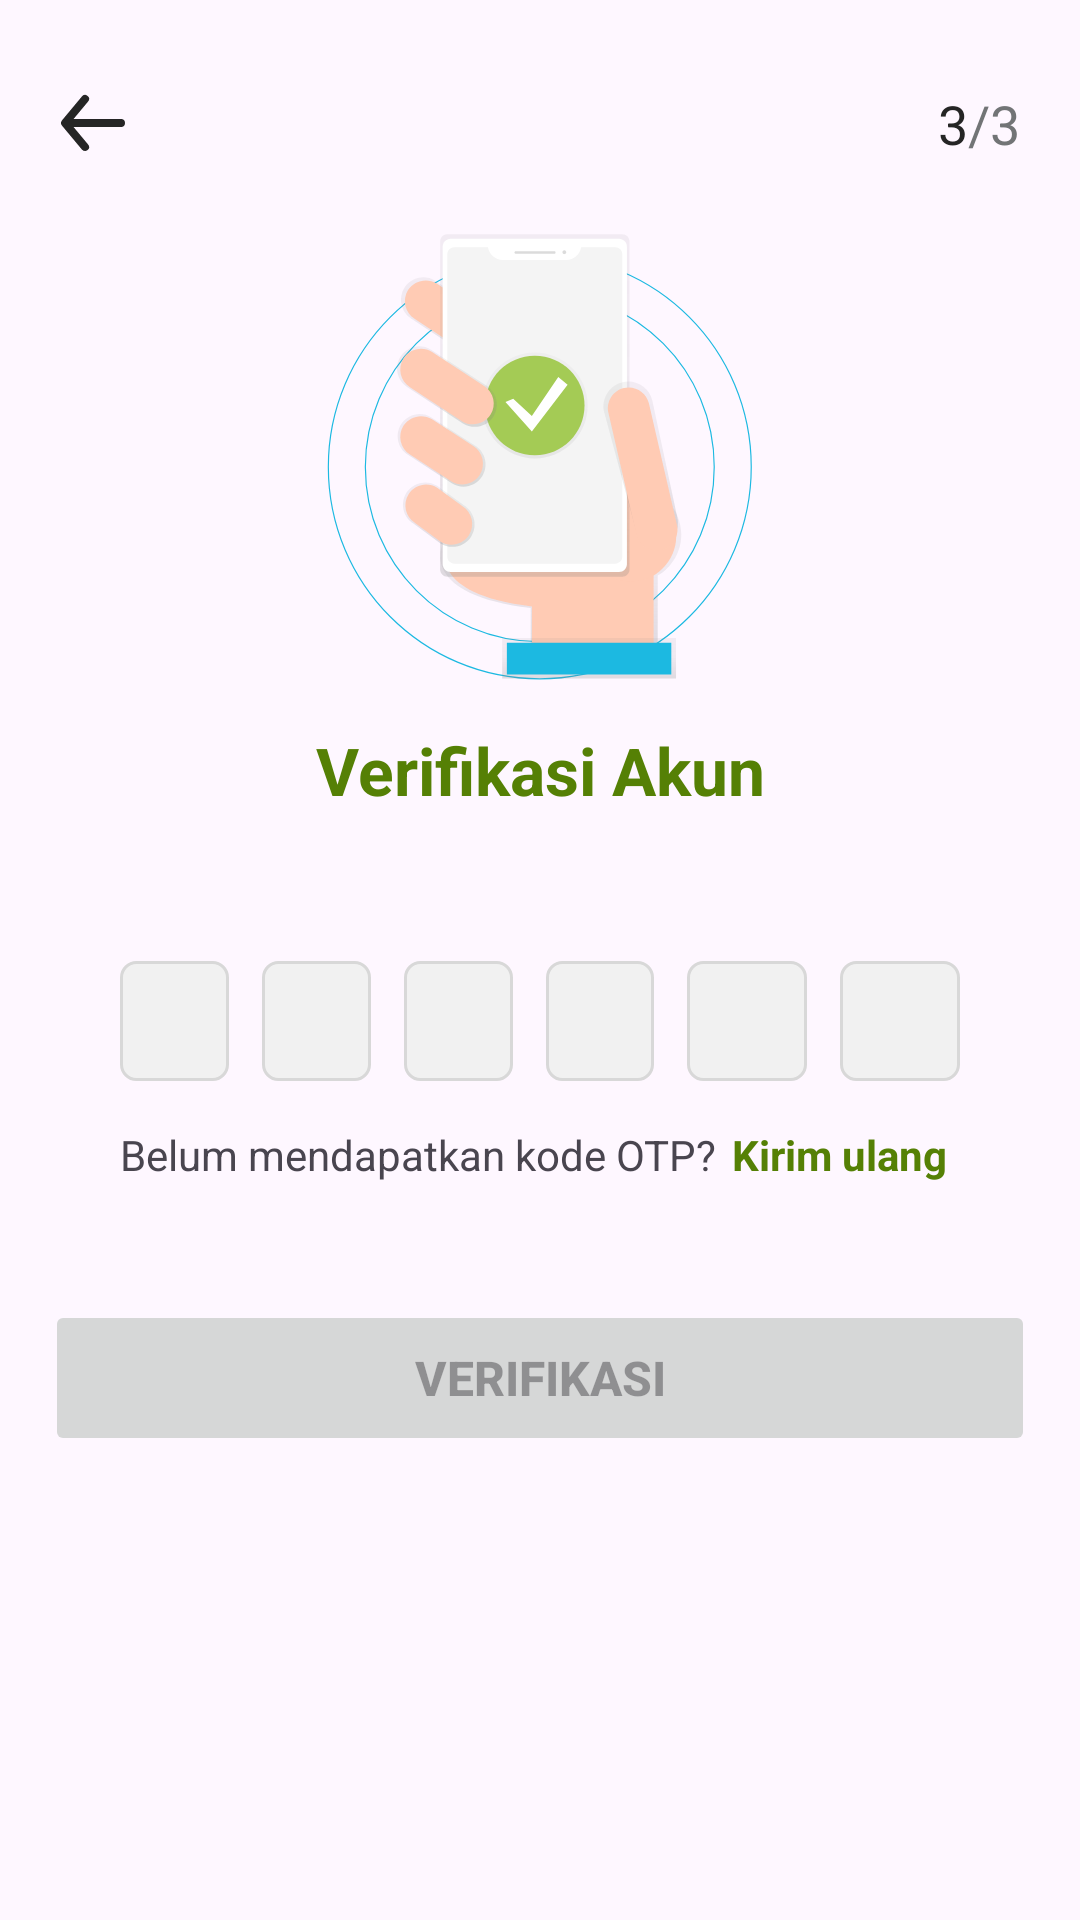

Icon bounding boxes for this 1080 x 1920 phone screenshot, format (left=x1, top=y1, right=x2, bottom=y2):
back: (left=61, top=94, right=125, bottom=151)
